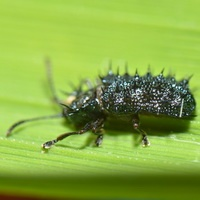insect: (6, 58, 195, 150)
